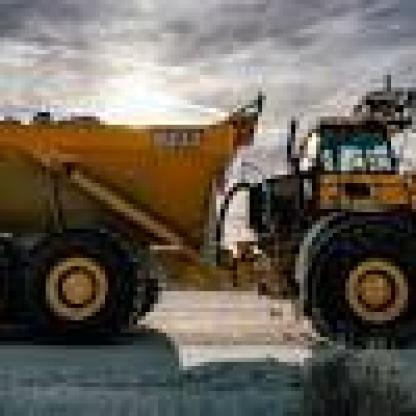dump_truck: (0, 50, 412, 358)
